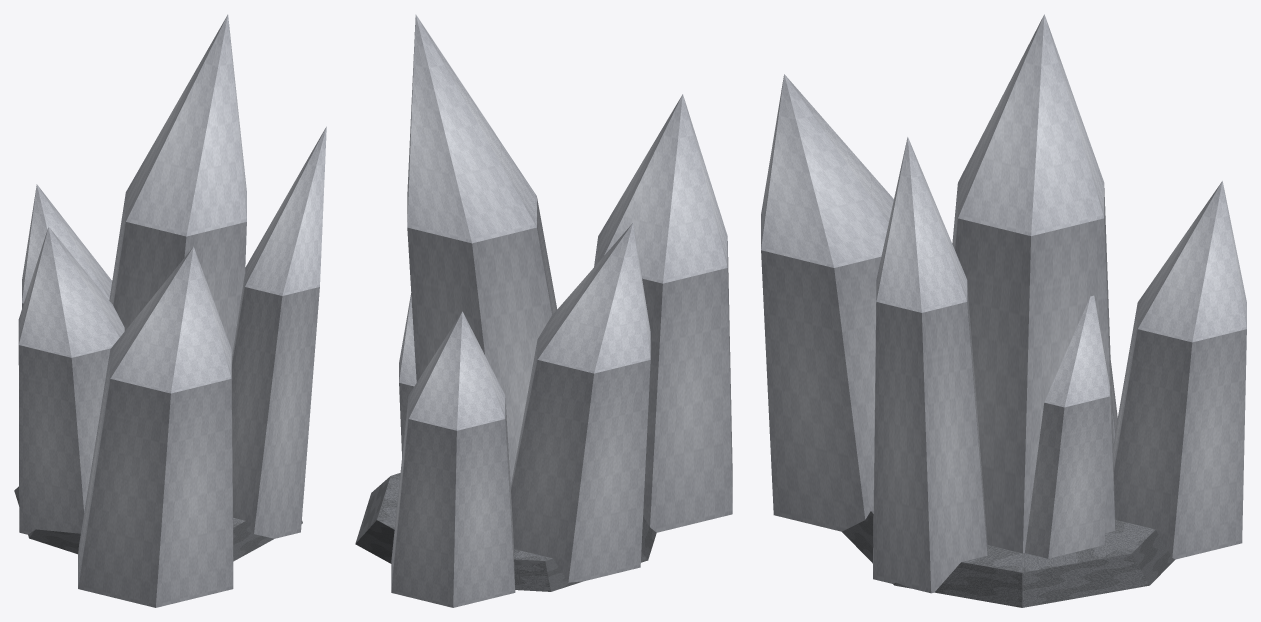
File: quartz.glb
The picture shows the model from 3 angles, left to right: view 1: azimuth 30°, elevation 25°; view 2: azimuth 150°, elevation 25°; view 3: azimuth 270°, elevation 25°; orthographic projection. The views are drawn at different scales.
Parts seen in each view (by area): view 1: quartz; view 2: quartz; view 3: quartz.
Part boxes in pixels (x1,y1,x2,y2): quartz: [14, 14, 326, 607]; quartz: [355, 14, 732, 607]; quartz: [761, 14, 1246, 607].
Size of the model in its own units: 0.6349 by 1.03 by 0.8073.
Materials: 1 (1 with a texture image).
